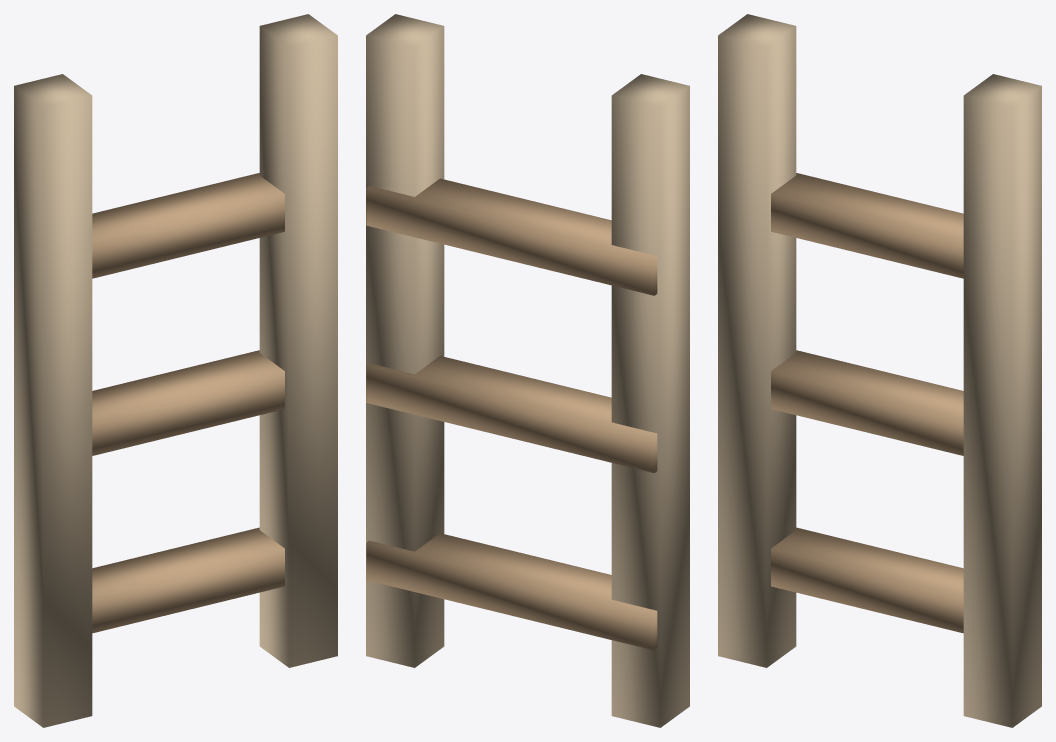
3 views of the same model, side by side, from view 1: azimuth 30°, elevation 25°; view 2: azimuth 150°, elevation 25°; view 3: azimuth 330°, elevation 25° (orthographic).
Visible parts, largest first — view 1: world; view 2: world; view 3: world.
Part boxes in pixels (x1,y1,x2,y2): world: (14, 14, 337, 727); world: (366, 14, 689, 727); world: (718, 14, 1041, 727).
Bounding box in the file's own units: 0.695 × 1.4 × 0.1315.
